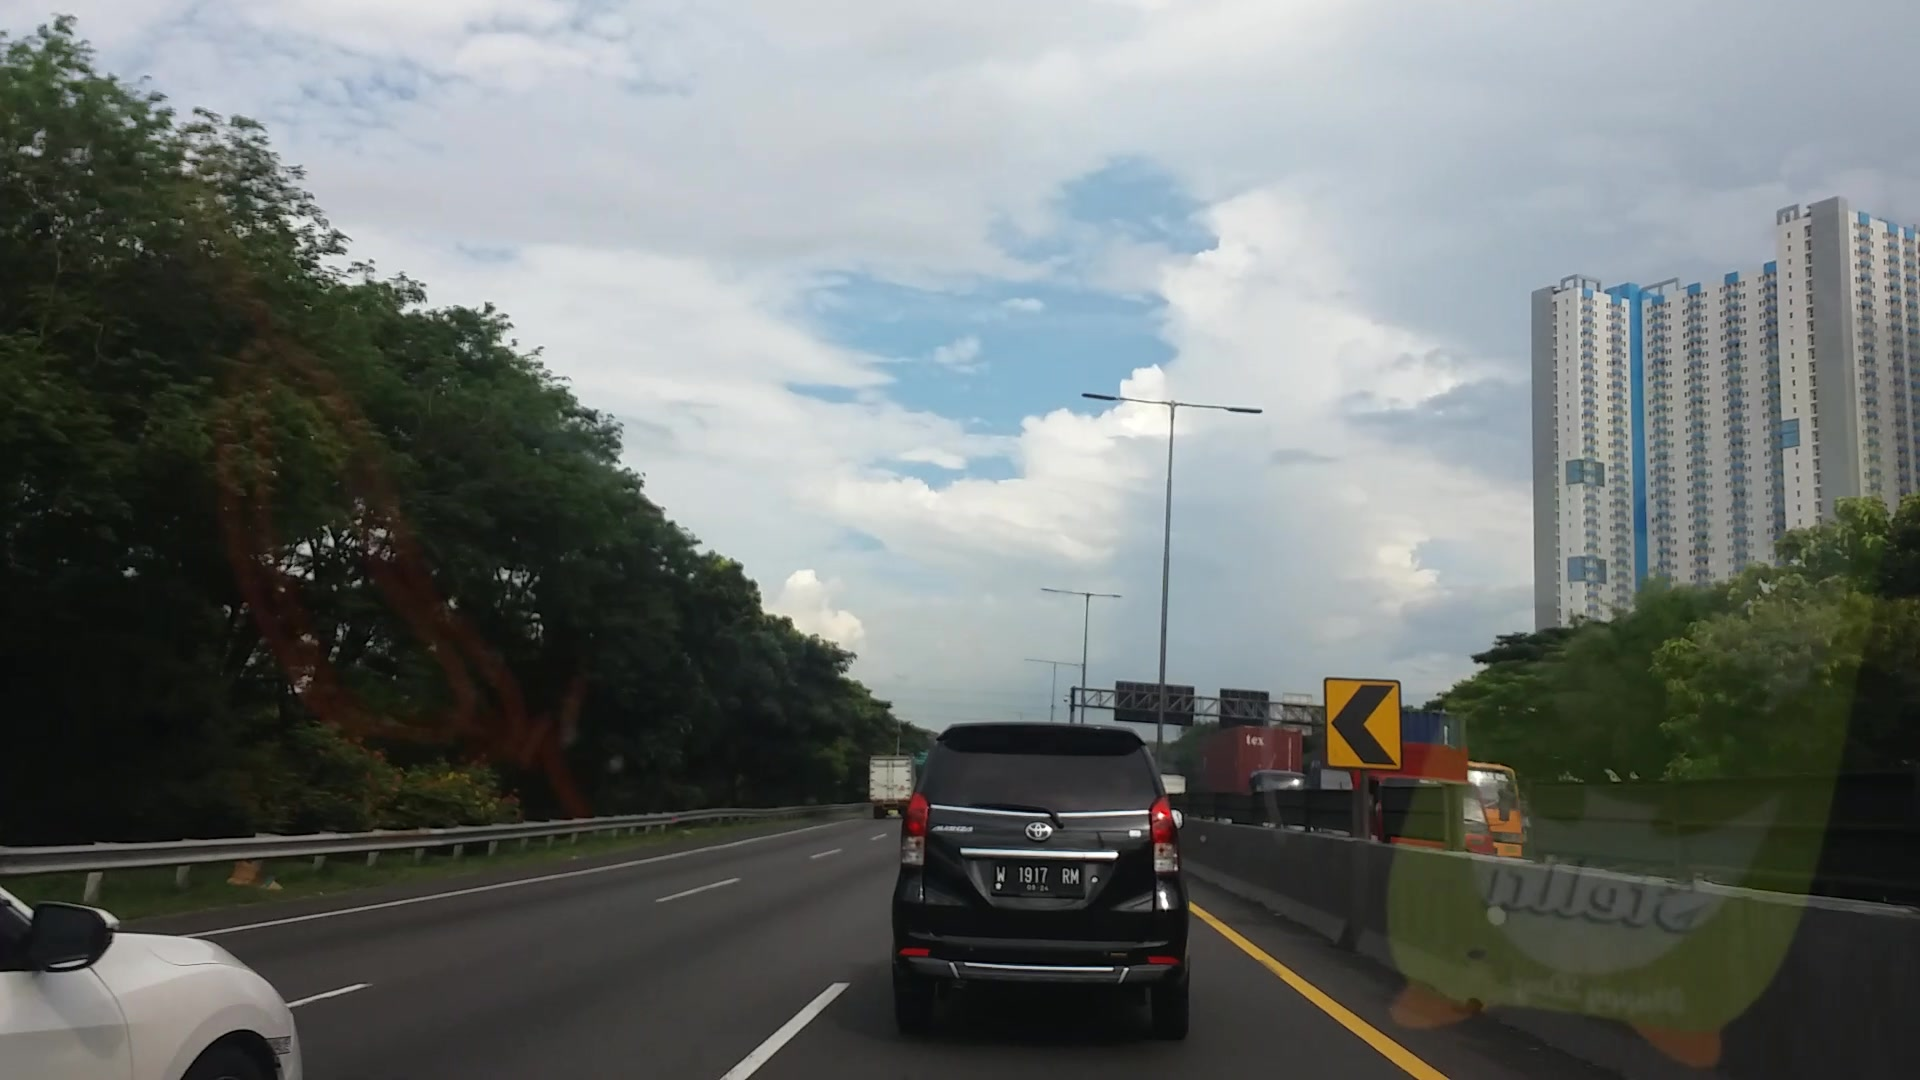plate_positive: (992, 862, 1083, 894)
